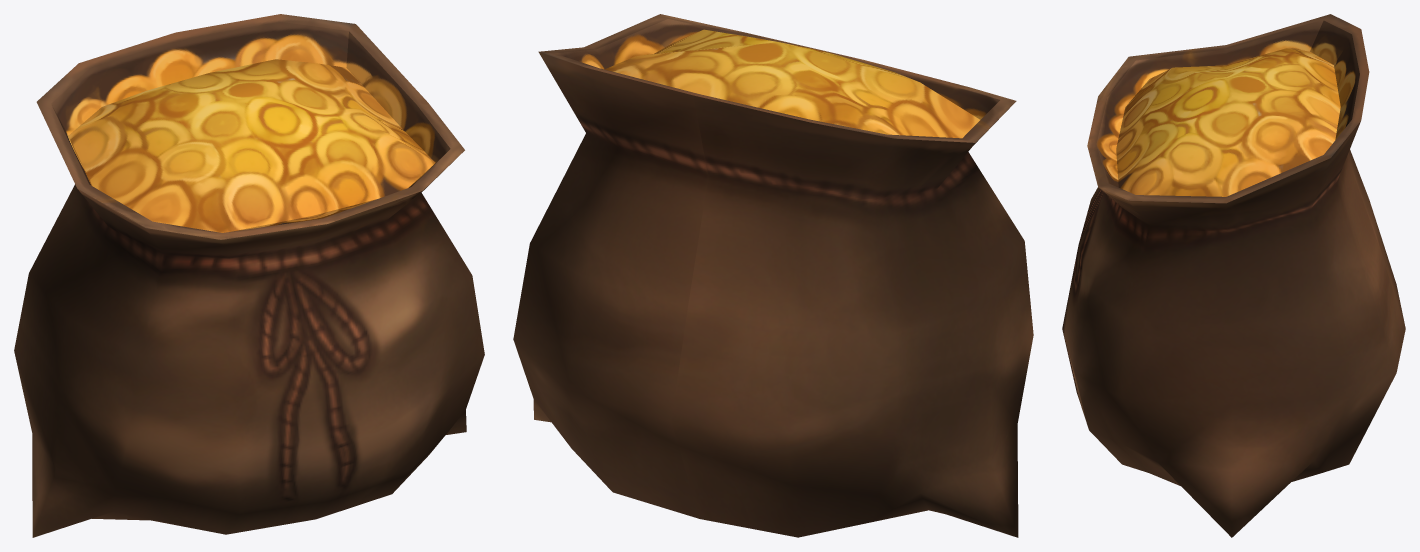
The model's file is 09_coin bag.FBX.
The picture shows the model from 3 angles, left to right: view 1: azimuth 30°, elevation 25°; view 2: azimuth 150°, elevation 25°; view 3: azimuth 270°, elevation 25°; orthographic projection. The views are drawn at different scales.
Visible parts, largest first — view 1: 09_coin bag; view 2: 09_coin bag; view 3: 09_coin bag.
Boxes of the visible parts, x1,y1,x2,y2 form: 09_coin bag: (14,14,484,537); 09_coin bag: (513,14,1033,537); 09_coin bag: (1062,14,1405,537).
Size of the model in its own units: 49.15 by 44.23 by 36.45.
